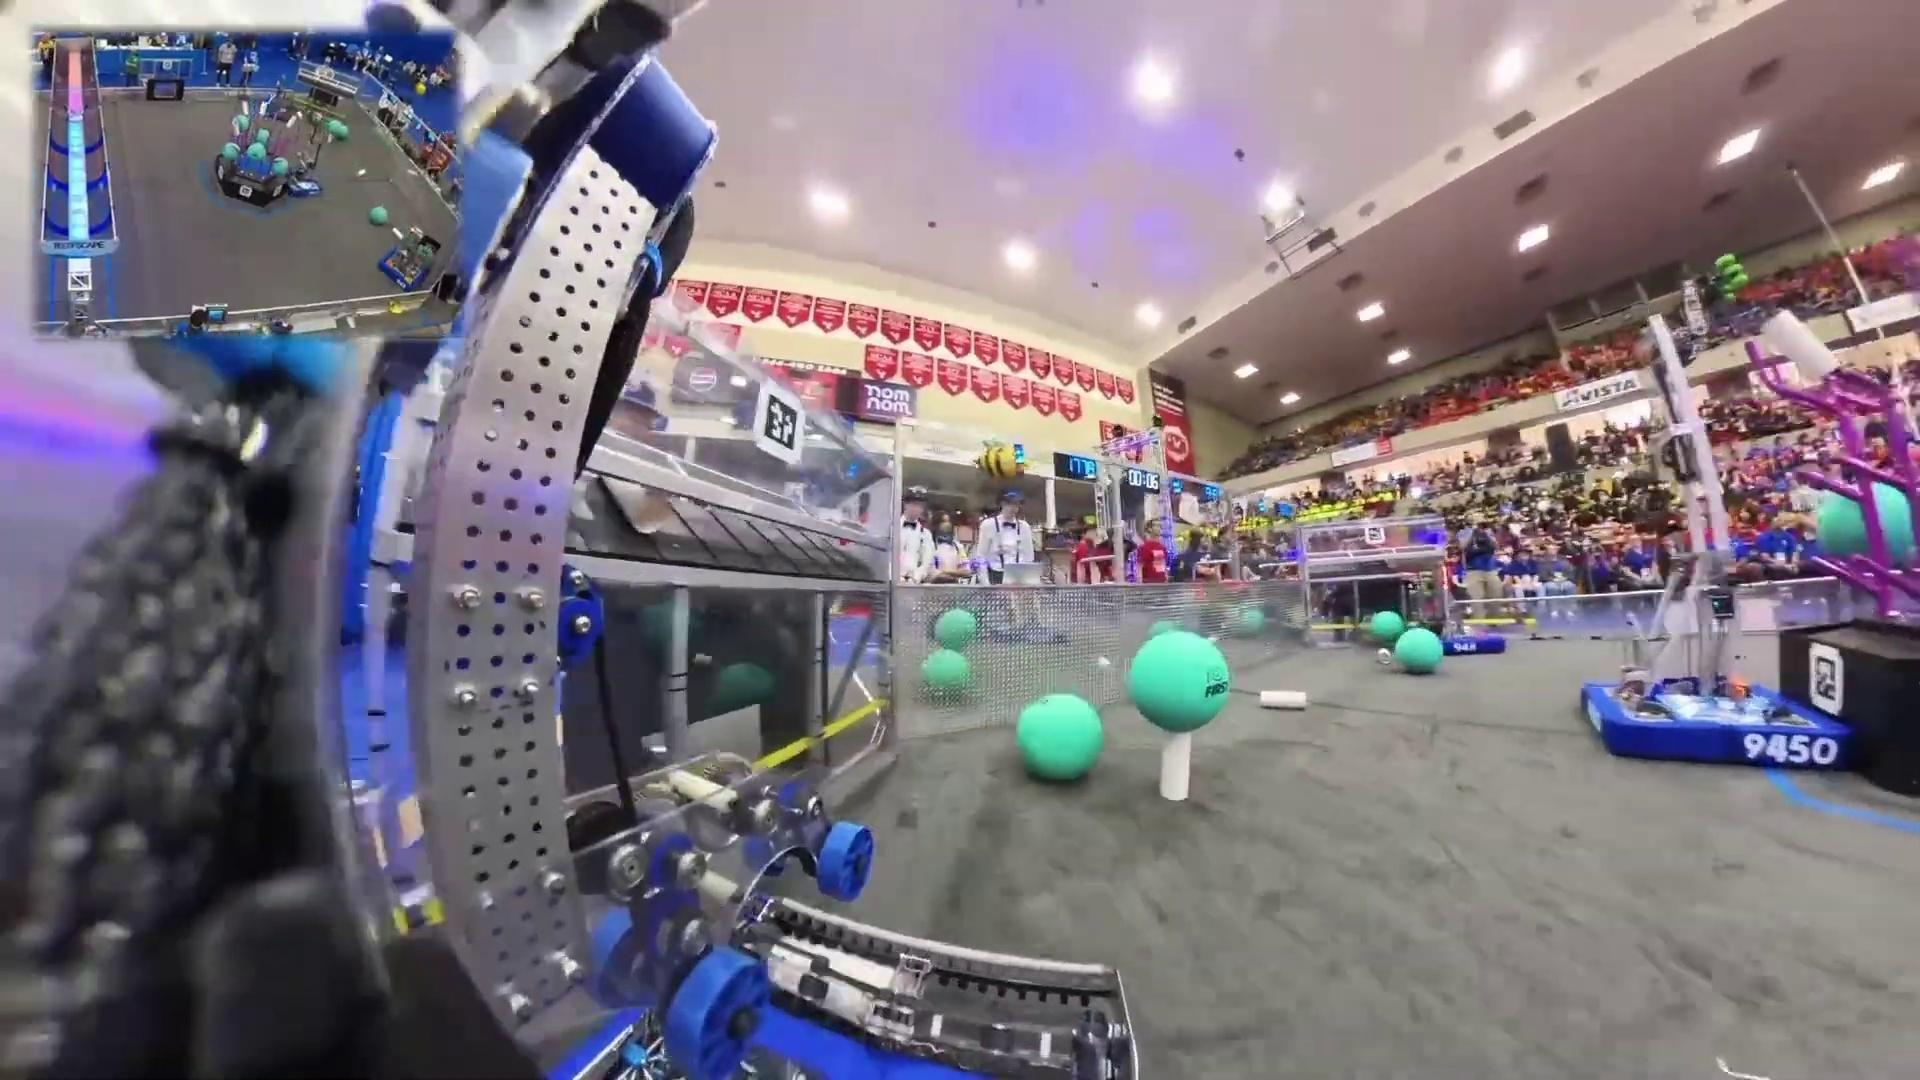robot: (1577, 255, 1849, 767), (1440, 555, 1509, 657), (380, 233, 434, 293), (282, 149, 323, 198)
